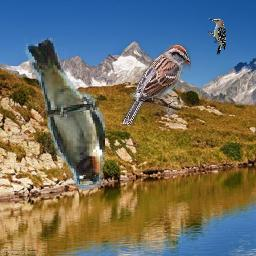Sparrow: (123, 44, 192, 126)
Swallow: (23, 38, 105, 190)
Woodpecker: (208, 17, 227, 55)
